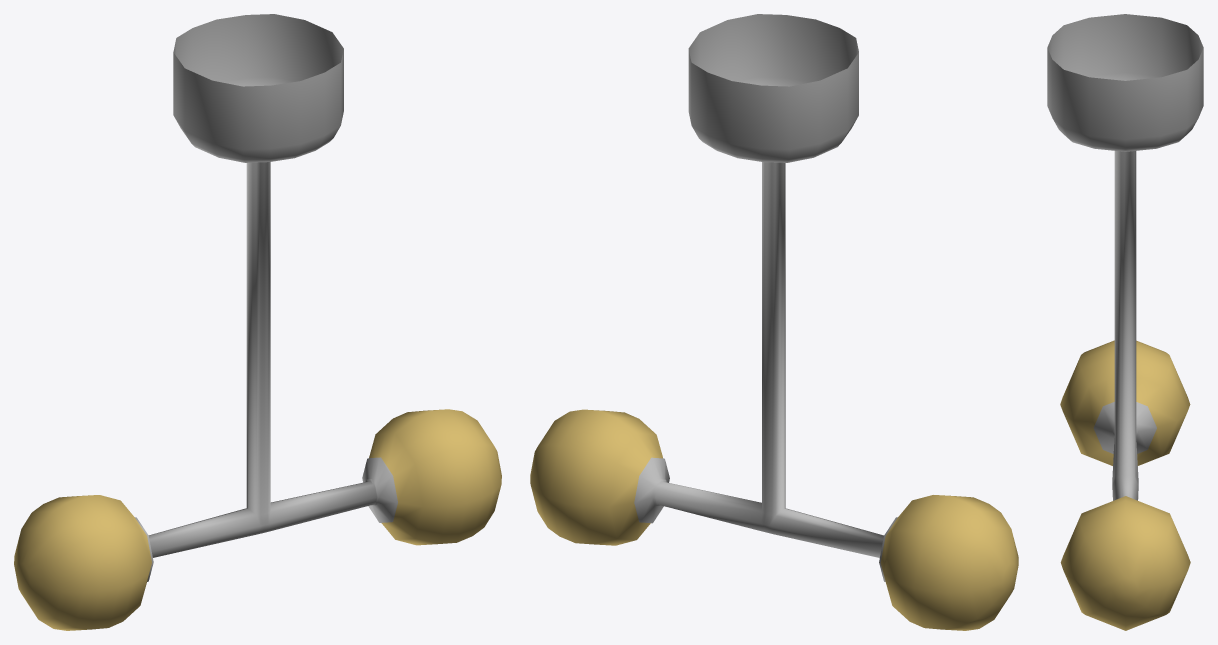
The model's file is suspension_bulle_3.fbx.
3 views of the same model, side by side, from view 1: azimuth 30°, elevation 25°; view 2: azimuth 150°, elevation 25°; view 3: azimuth 270°, elevation 25° (orthographic). The views are drawn at different scales.
Parts seen in each view (by area): view 1: luminaire_bulle3; view 2: luminaire_bulle3; view 3: luminaire_bulle3.
Boxes of the visible parts, box(x1,y1,x2,y2) form: luminaire_bulle3: box(14, 14, 501, 630); luminaire_bulle3: box(530, 14, 1018, 630); luminaire_bulle3: box(1047, 14, 1203, 630).
Bounding box in the file's own units: 0.0424 × 0.046 × 0.0131.
